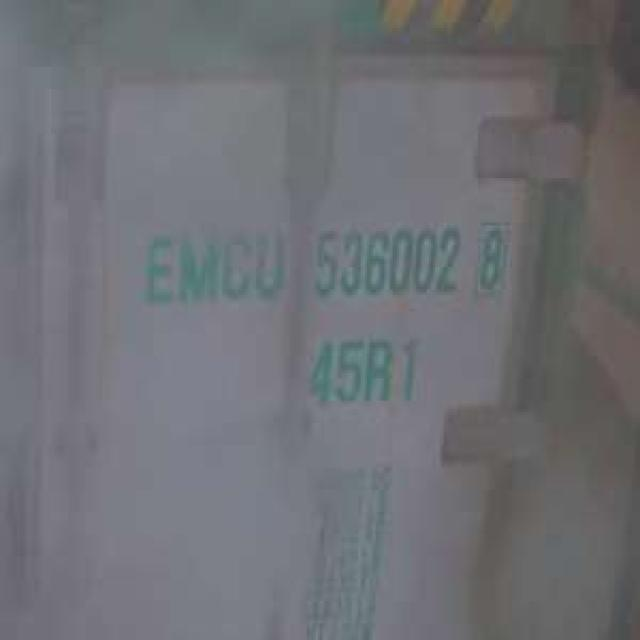dv: (472, 214, 514, 295)
owner: (134, 214, 288, 312)
serial: (309, 214, 461, 306)
size: (301, 328, 422, 409)
